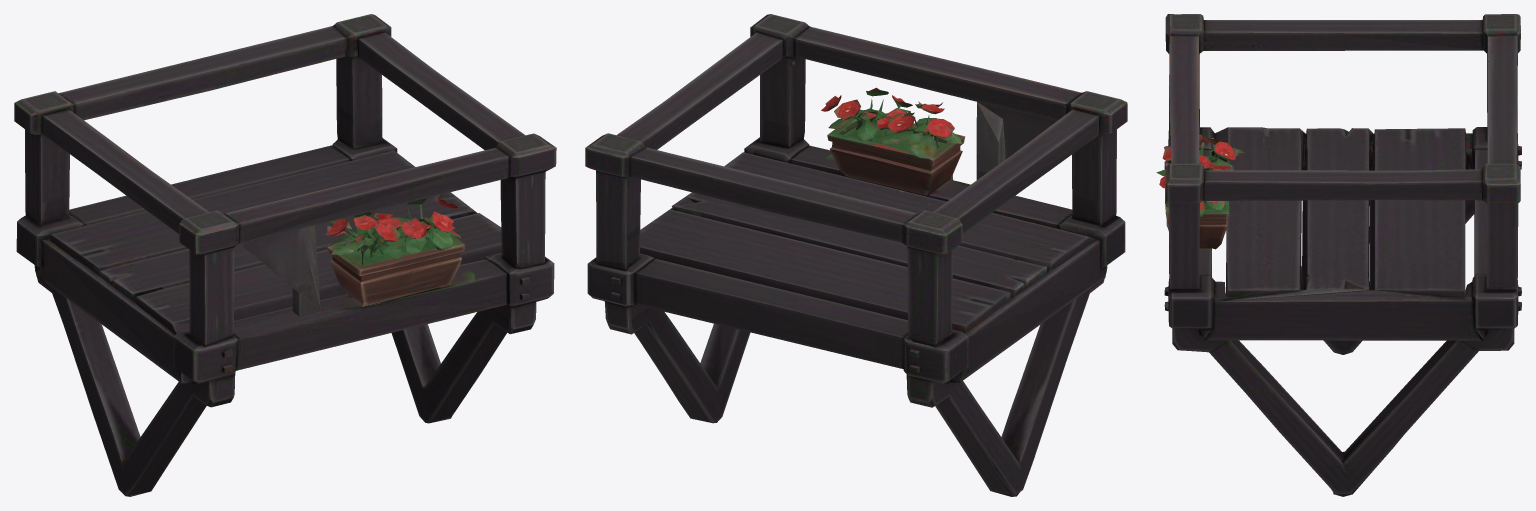
The model's file is balcony.glb.
3 views of the same model, side by side, from view 1: azimuth 30°, elevation 25°; view 2: azimuth 150°, elevation 25°; view 3: azimuth 270°, elevation 25° (orthographic). The views are drawn at different scales.
Parts seen in each view (by area): view 1: balcony; view 2: balcony; view 3: balcony.
Part boxes in pixels (bbox=[...]): balcony: bbox=[14, 14, 556, 496]; balcony: bbox=[585, 14, 1127, 496]; balcony: bbox=[1156, 14, 1521, 496].
Size of the model in its own units: 1.8 by 1.6 by 1.63.
1 material, 1 textured.
